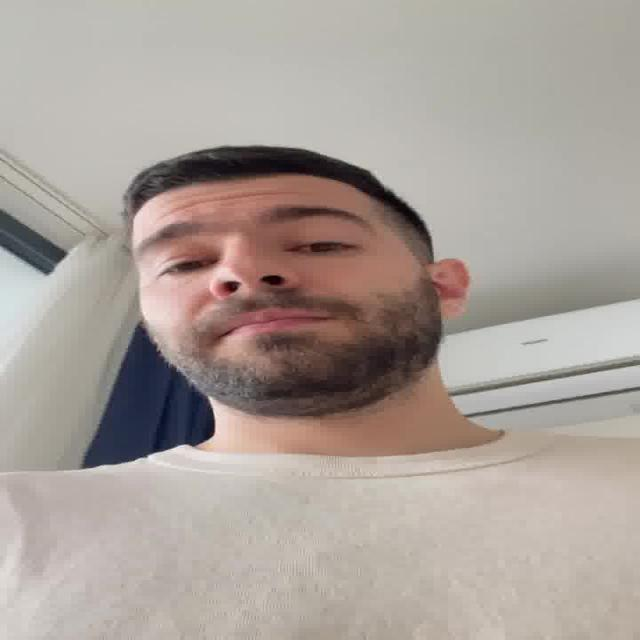earlobe: (424, 258, 472, 319)
